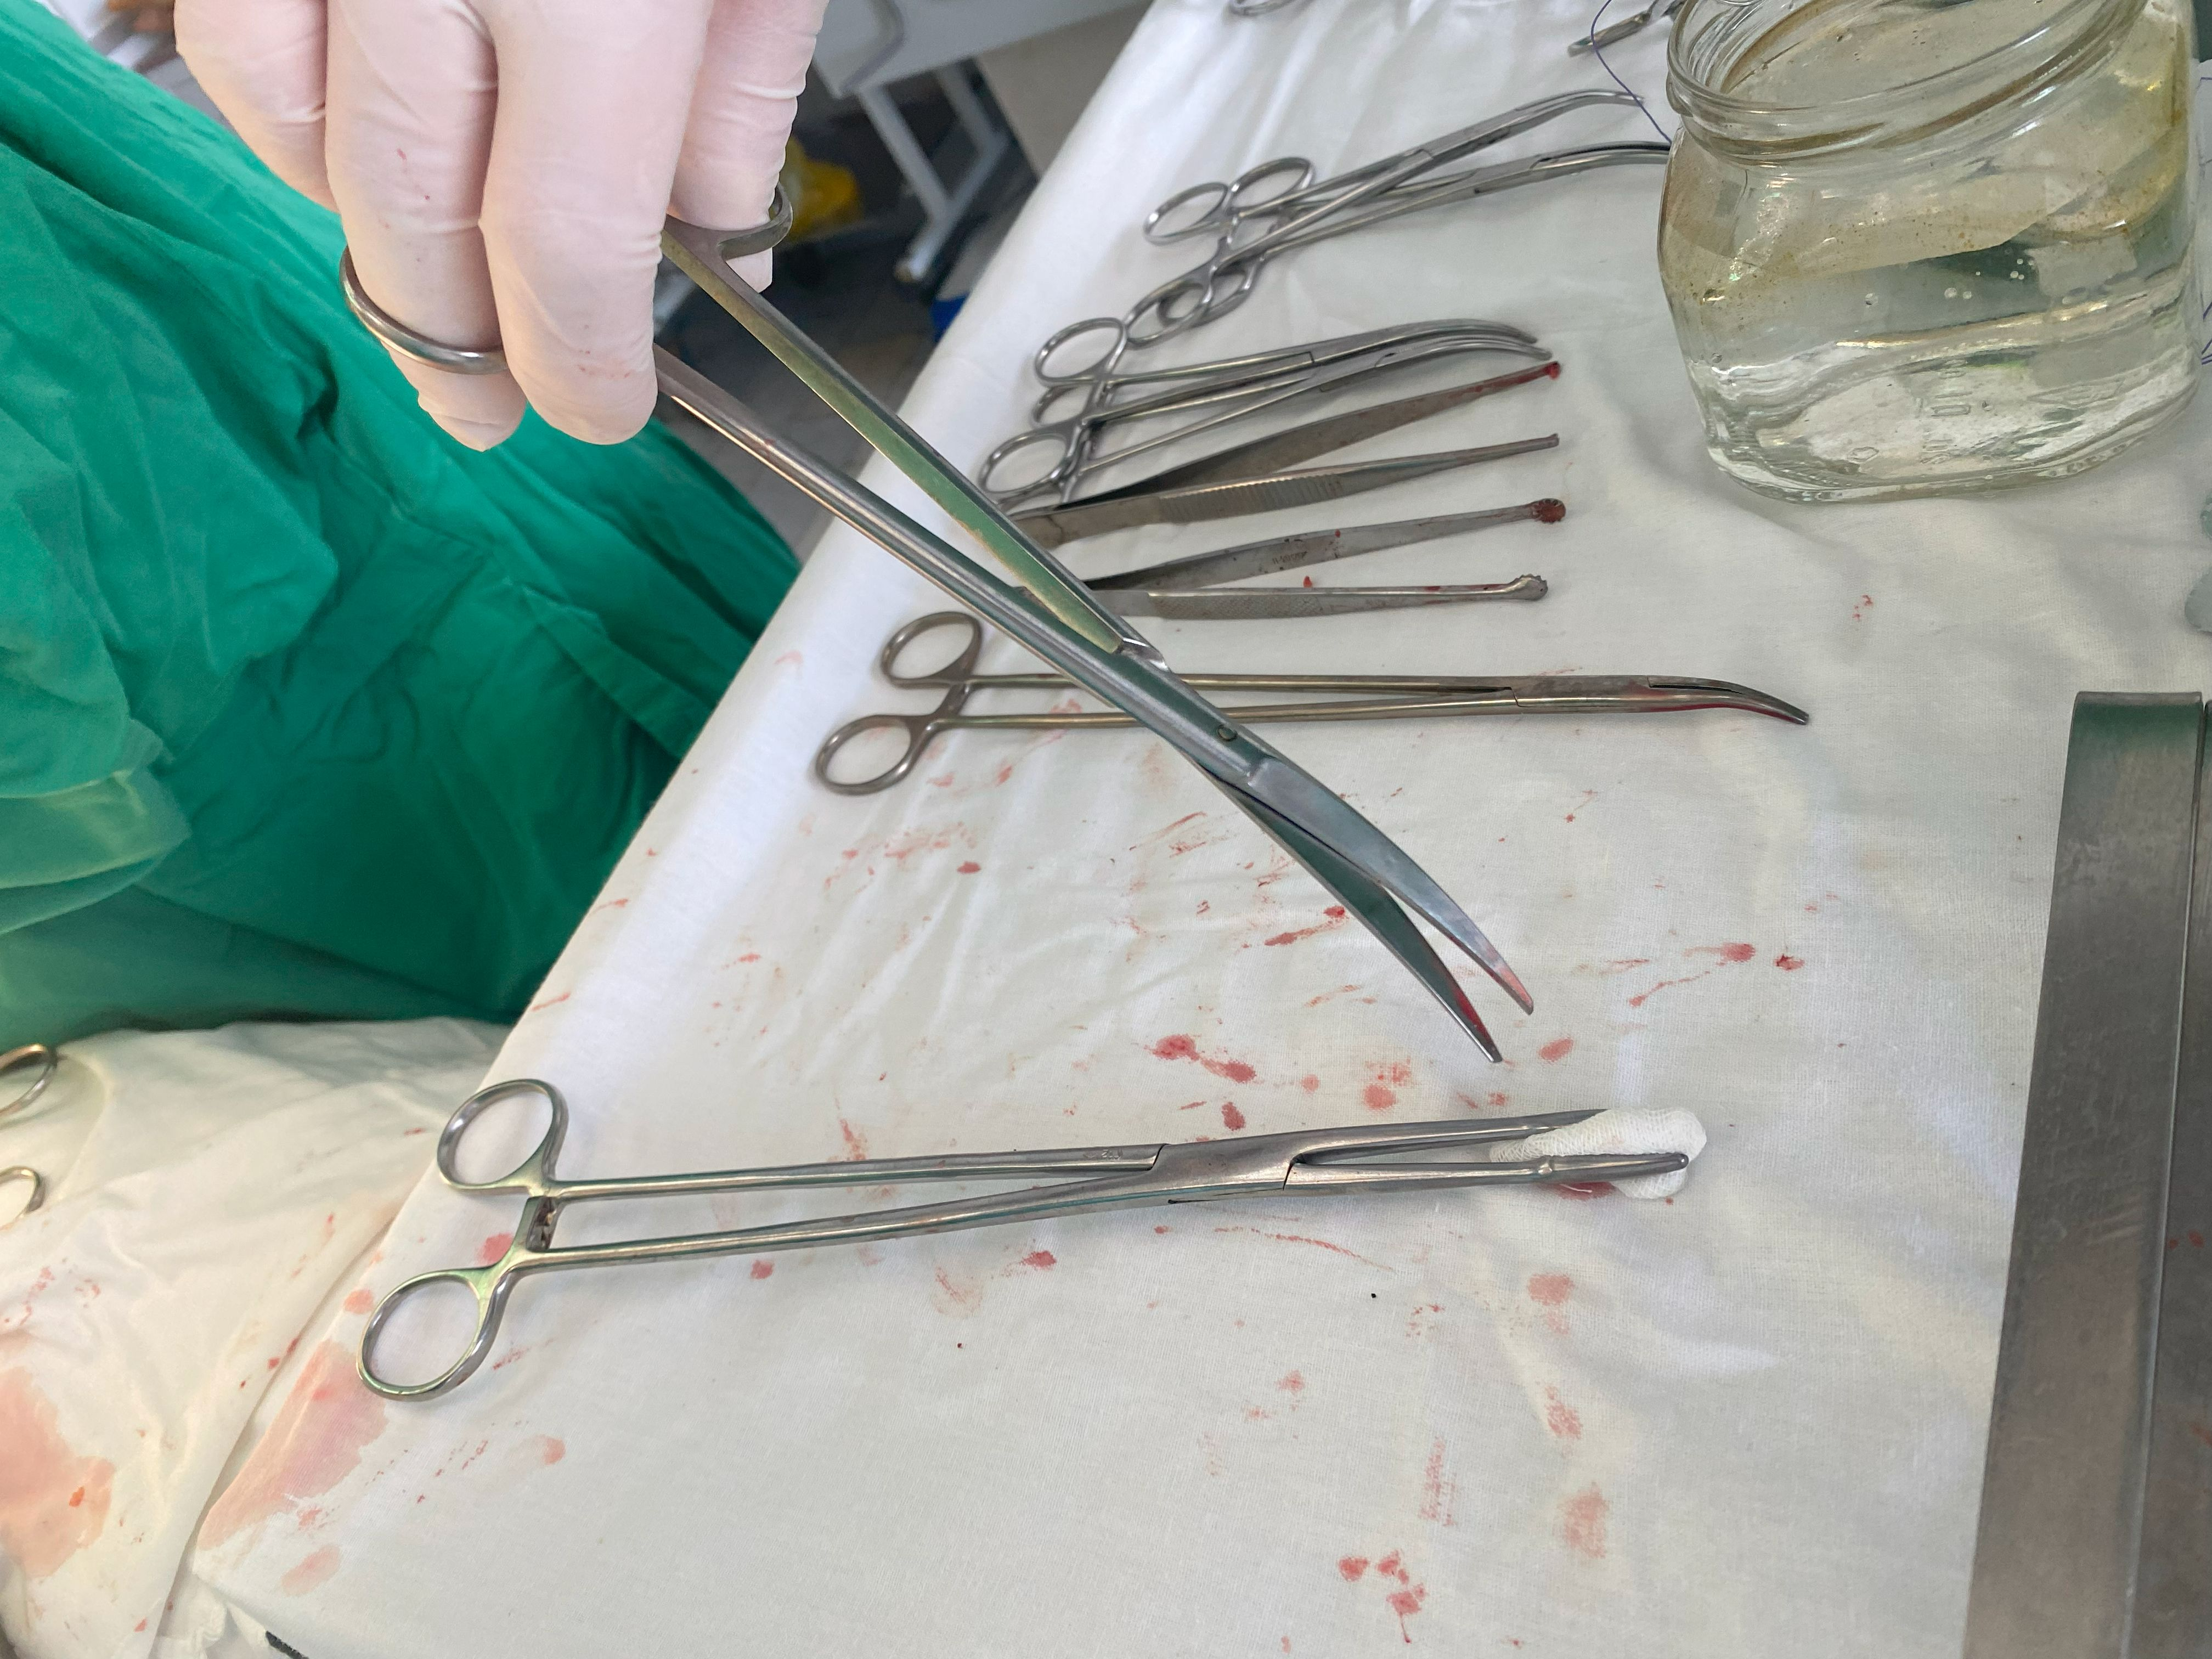clamp: (361, 1079, 1691, 1399)
scissors: (653, 195, 1533, 1060)
tweezers: (1015, 361, 1561, 547), (1087, 498, 1564, 619)
